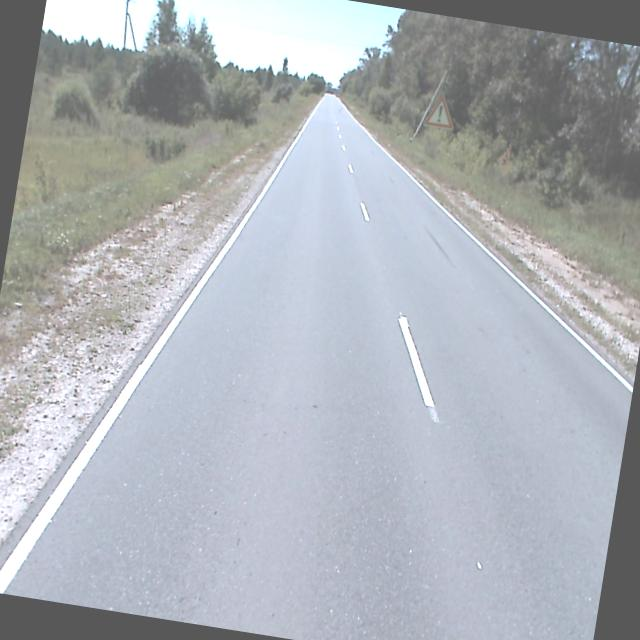road: (0, 94, 633, 640)
